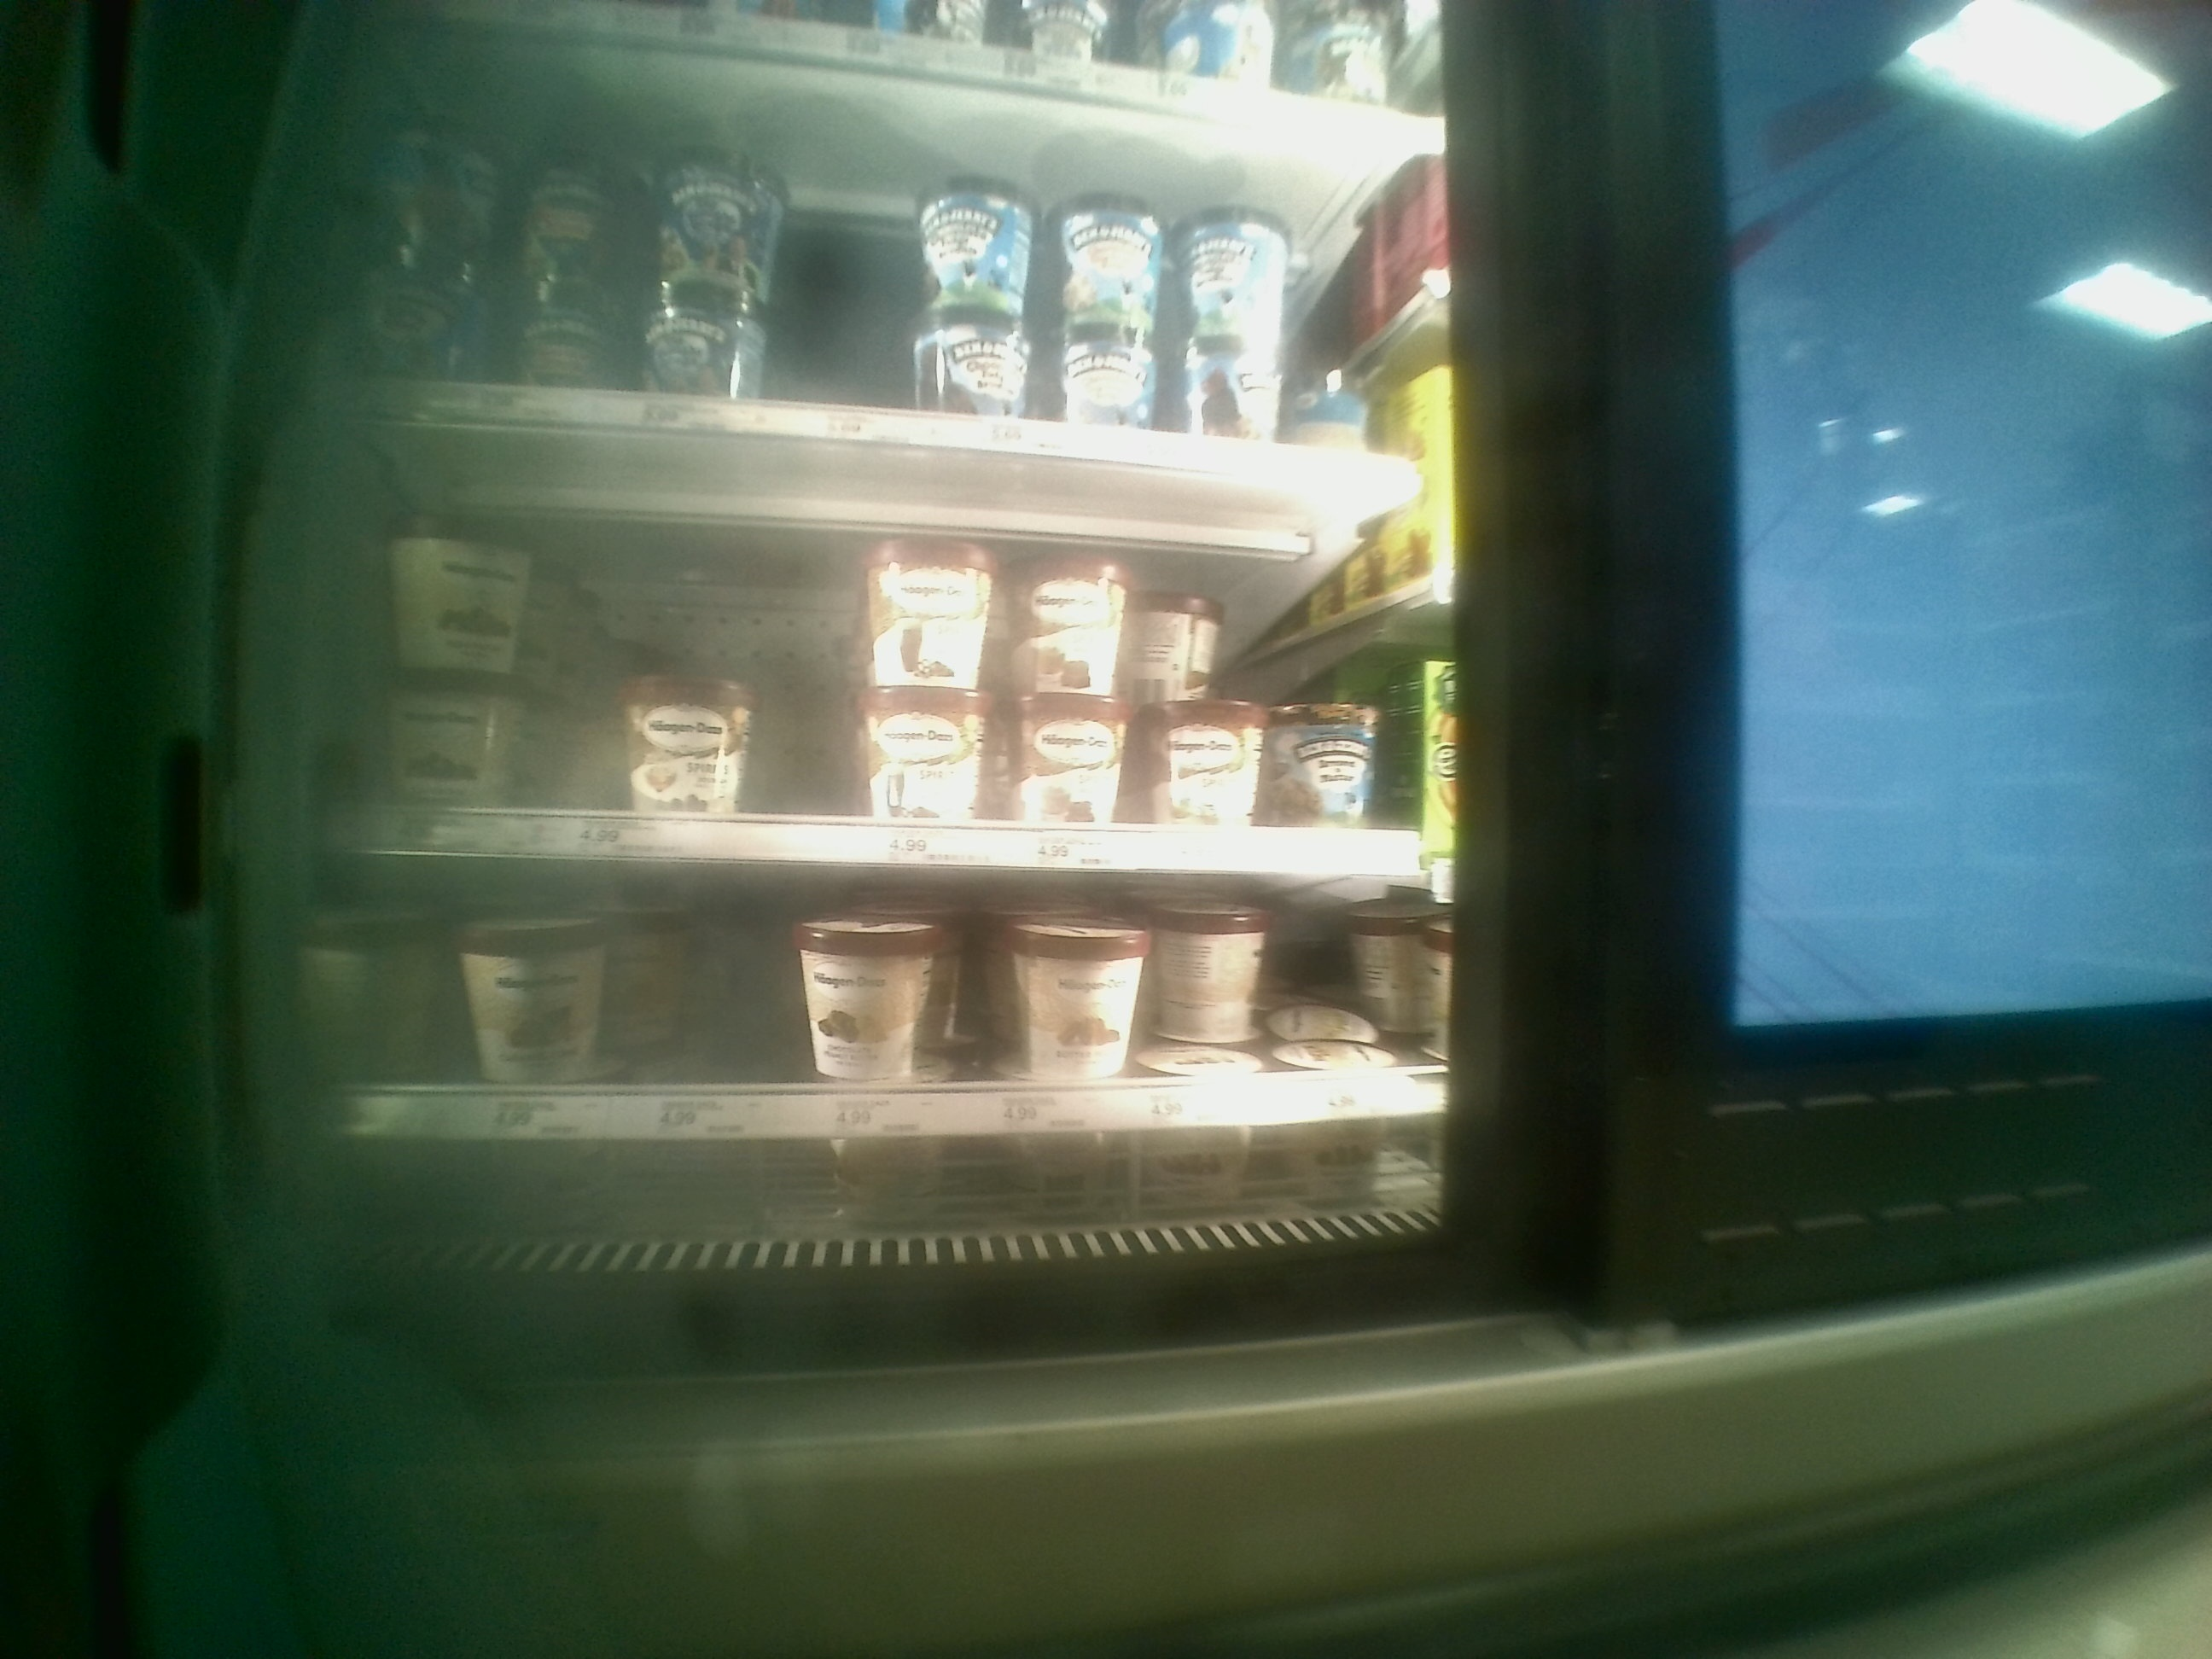ice-cream-shelf: (315, 427, 1406, 870), (308, 854, 1444, 1173)
